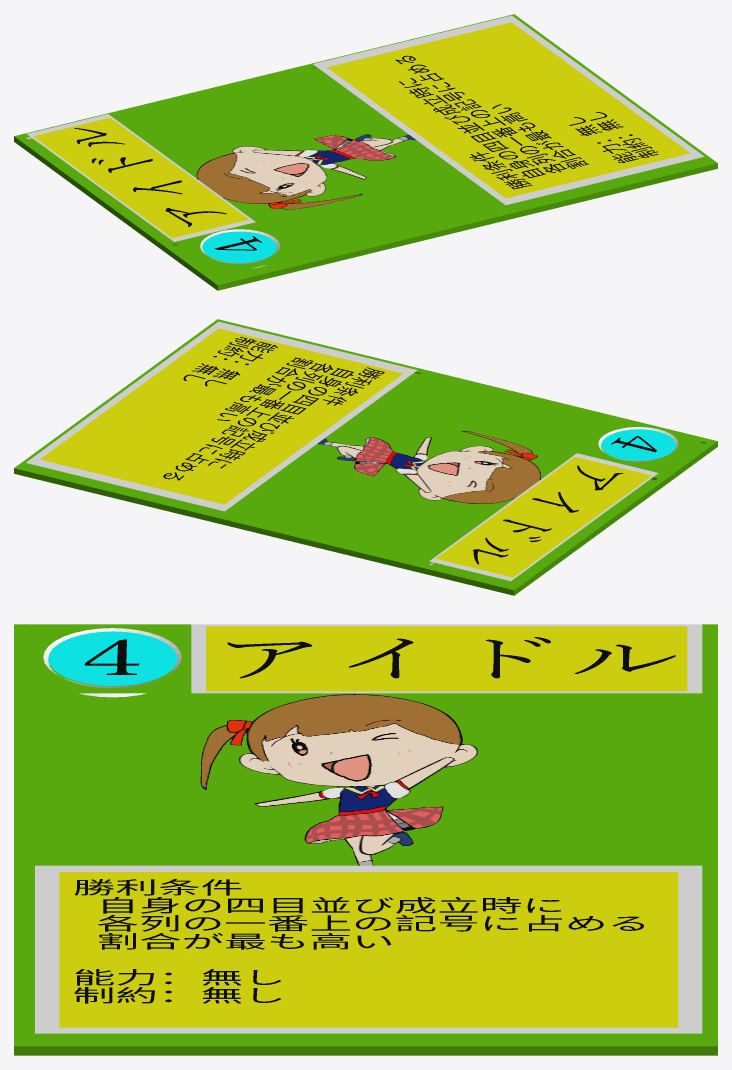
The model's file is アイドル緑.fbx.
3 views of the same model, one above another, from view 1: azimuth 30°, elevation 25°; view 2: azimuth 150°, elevation 25°; view 3: azimuth 270°, elevation 25° (orthographic). The views are drawn at different scales.
Parts seen in each view (by area): view 1: カード本体.001, 説明欄, 名前欄, 平面.001, 説明文, 円, 平面, 名前; view 2: カード本体.001, 説明欄, 名前欄, 平面.001, 説明文, 円, 平面, 名前; view 3: カード本体.001, 説明欄, 名前欄, 平面.001, 説明文, 平面, 円, 名前, コスト蘭.
Boxes of the visible parts, <box> form: カード本体.001: <box>14,14,717,290</box>; 説明欄: <box>313,15,704,205</box>; 名前欄: <box>27,114,255,241</box>; 平面.001: <box>196,134,415,209</box>; 説明文: <box>395,55,658,189</box>; 円: <box>202,231,276,262</box>; 平面: <box>174,222,302,275</box>; 名前: <box>74,128,226,226</box>; カード本体.001: <box>14,319,717,595</box>; 説明欄: <box>26,321,417,511</box>; 名前欄: <box>429,453,658,581</box>; 平面.001: <box>318,431,541,503</box>; 説明文: <box>163,337,384,480</box>; 円: <box>601,429,675,460</box>; 平面: <box>577,419,704,472</box>; 名前: <box>473,465,623,564</box>; カード本体.001: <box>14,624,717,1055</box>; 説明欄: <box>35,865,702,1033</box>; 名前欄: <box>191,624,702,693</box>; 平面.001: <box>200,694,477,865</box>; 説明文: <box>74,879,643,1003</box>; 平面: <box>30,624,191,693</box>; 円: <box>48,631,177,686</box>; 名前: <box>227,637,675,678</box>; コスト蘭: <box>43,628,181,697</box>.
Size of the model in its own units: 281 by 6.07 by 198.
